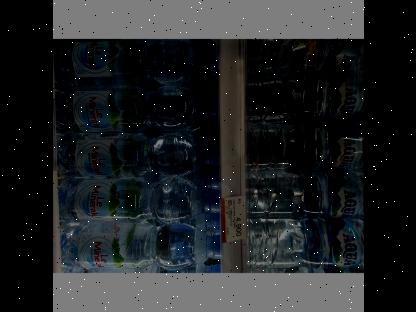Plastic Bottle: (54, 32, 230, 91), (56, 122, 230, 178), (54, 217, 233, 271), (52, 82, 235, 132), (52, 172, 234, 220), (240, 58, 364, 126), (248, 203, 364, 271), (246, 109, 364, 170), (250, 158, 364, 218), (242, 27, 364, 73)
